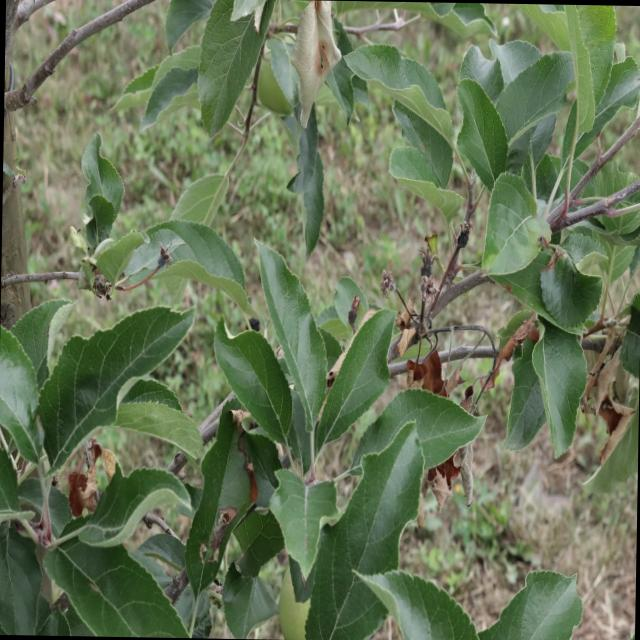-FireBlight-: (588, 322, 638, 466), (394, 309, 448, 392), (60, 441, 116, 506), (426, 459, 460, 501)
